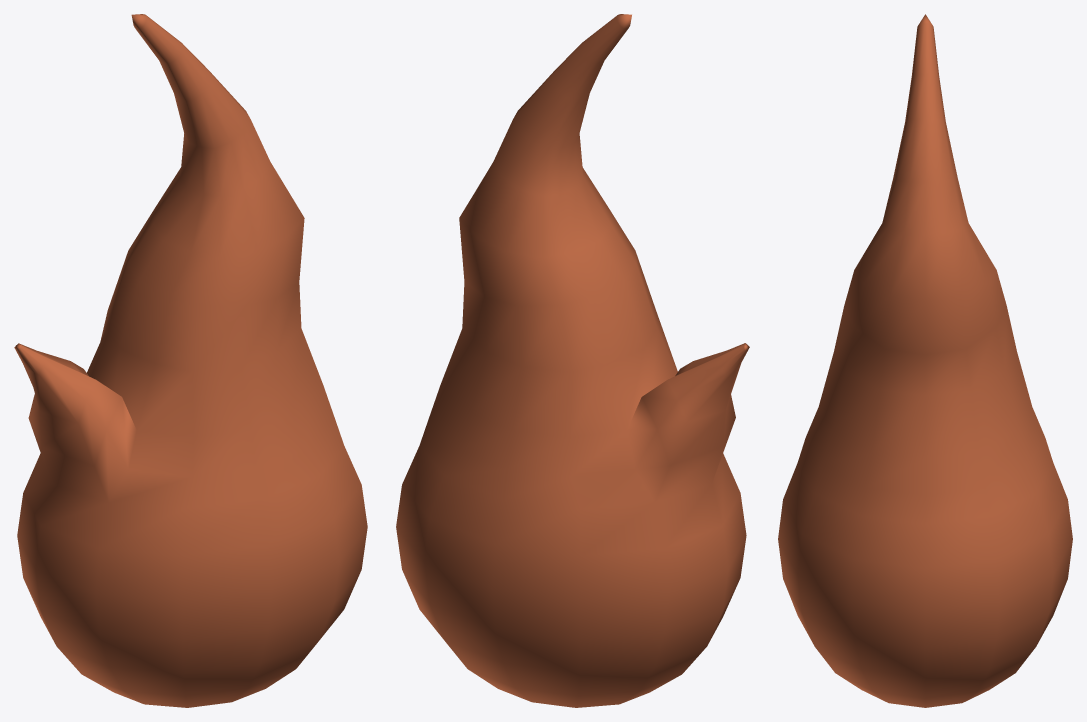
File: fireelement 1.fbx
3 renders of one model, left to right at view 1: azimuth 30°, elevation 25°; view 2: azimuth 150°, elevation 25°; view 3: azimuth 270°, elevation 25°, orthographic. The views are drawn at different scales.
Parts seen in each view (by area): view 1: pSphere1; view 2: pSphere1; view 3: pSphere1.
Boxes of the visible parts, x1=… form: pSphere1: x1=14, y1=14, x2=367, y2=707; pSphere1: x1=396, y1=14, x2=749, y2=707; pSphere1: x1=778, y1=14, x2=1072, y2=707.
Bounding box in the file's own units: 29.5 × 58.81 × 24.15.
